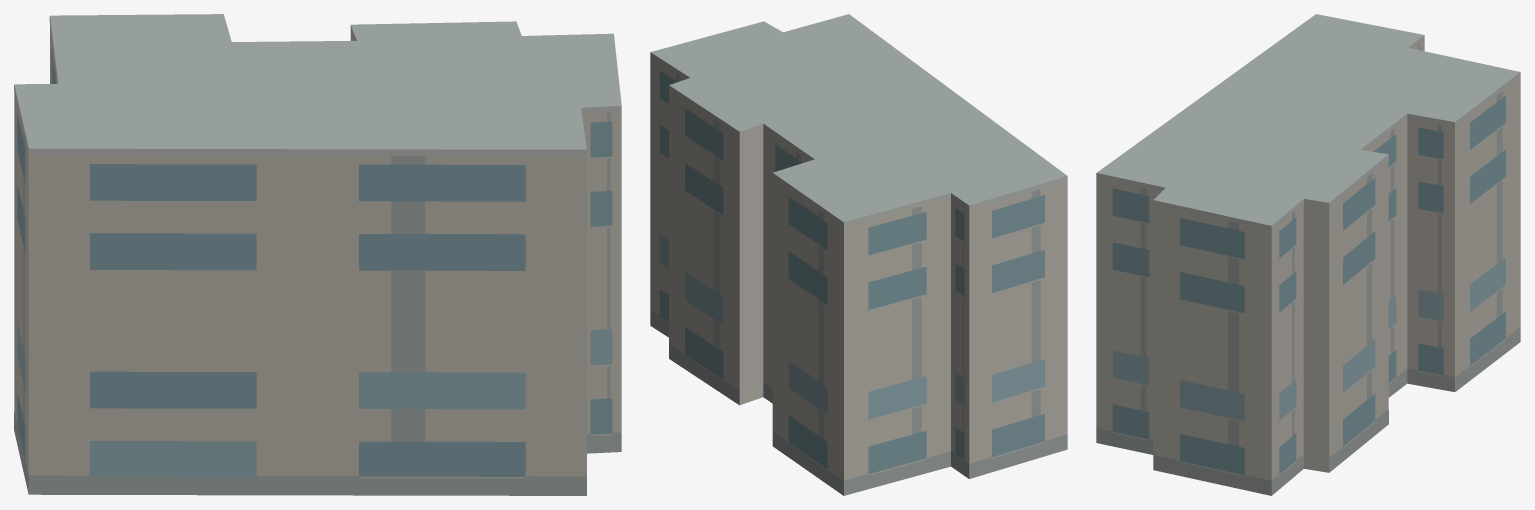
File: survey-upis-32673584.glb
3 views of the same model, side by side, from view 1: azimuth 30°, elevation 25°; view 2: azimuth 150°, elevation 25°; view 3: azimuth 270°, elevation 25° (orthographic). The views are drawn at different scales.
Visible parts, largest first — view 1: survey-upis-32673584.tmp; view 2: survey-upis-32673584.tmp; view 3: survey-upis-32673584.tmp.
Boxes of the visible parts, x1=… form: survey-upis-32673584.tmp: x1=14, y1=14, x2=621, y2=495; survey-upis-32673584.tmp: x1=650, y1=14, x2=1067, y2=495; survey-upis-32673584.tmp: x1=1096, y1=14, x2=1520, y2=495.
Bounding box in the file's own units: 22.56 × 13.4 × 19.08.
